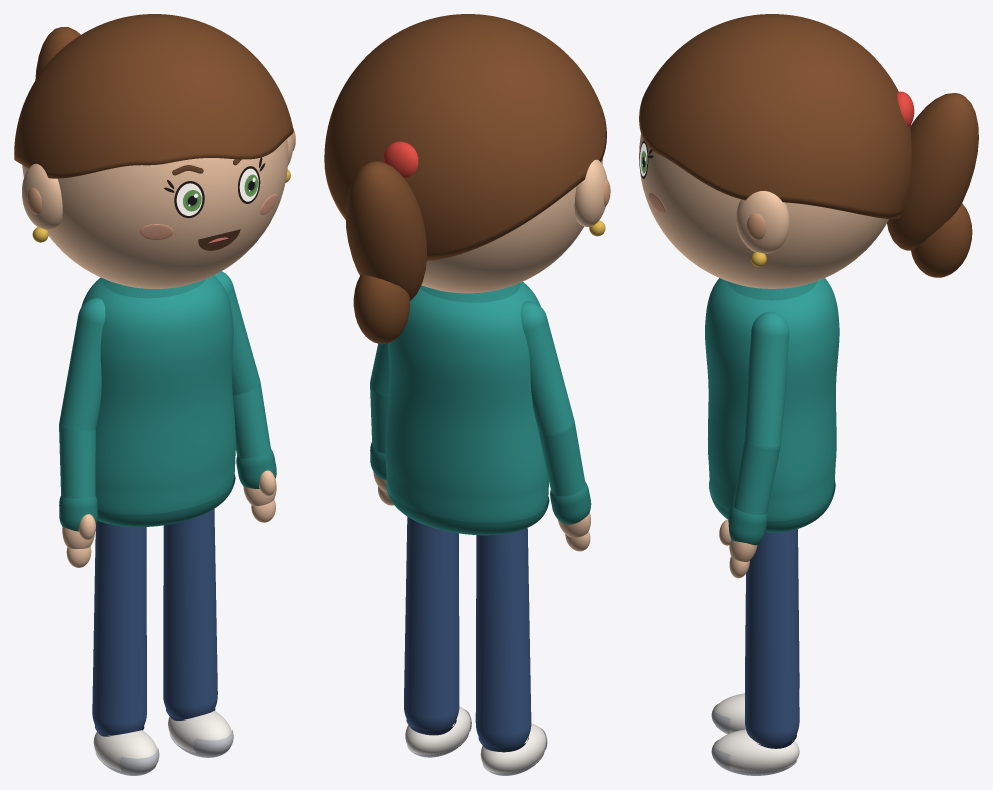
The model's file is mama.glb.
The picture shows the model from 3 angles, left to right: view 1: azimuth 30°, elevation 25°; view 2: azimuth 150°, elevation 25°; view 3: azimuth 270°, elevation 25°; orthographic projection.
Visible parts, largest first — view 1: mama_haar, mama_romp, mama_hoofd, mama_been_R, mama_been_L, mama_bovenarm_R, mama_onderarm_R, mama_onderarm_L, mama_bovenarm_L, mama_oor_R, mama_schoen_R, mama_romp_boord (+8 smaller); view 2: mama_haar, mama_romp, mama_been_R, mama_been_L, mama_staart, mama_hoofd, mama_bovenarm_R, mama_staart_punt, mama_onderarm_R, mama_romp_boord, mama_schoen_R, mama_oor_R (+6 smaller); view 3: mama_haar, mama_romp, mama_hoofd, mama_been_L, mama_staart, mama_bovenarm_L, mama_staart_punt, mama_onderarm_L, mama_oor_L, mama_schoen_L, mama_manchet_L, mama_romp_halsboord (+2 smaller).
Part boxes in pixels (x1=…): mama_haar: x1=14, y1=14, x2=293, y2=178; mama_romp: x1=81, y1=275, x2=235, y2=514; mama_hoofd: x1=22, y1=139, x2=288, y2=288; mama_been_R: x1=92, y1=520, x2=146, y2=735; mama_been_L: x1=163, y1=509, x2=217, y2=719; mama_bovenarm_R: x1=59, y1=298, x2=105, y2=431; mama_onderarm_R: x1=59, y1=424, x2=95, y2=498; mama_onderarm_L: x1=233, y1=383, x2=270, y2=458; mama_bovenarm_L: x1=214, y1=271, x2=259, y2=395; mama_oor_R: x1=22, y1=163, x2=62, y2=230; mama_schoen_R: x1=93, y1=730, x2=157, y2=771; mama_romp_boord: x1=97, y1=474, x2=235, y2=527; mama_haar: x1=324, y1=14, x2=606, y2=260; mama_romp: x1=385, y1=281, x2=548, y2=522; mama_been_R: x1=475, y1=528, x2=531, y2=748; mama_been_L: x1=404, y1=516, x2=459, y2=731; mama_staart: x1=345, y1=161, x2=426, y2=300; mama_hoofd: x1=421, y1=159, x2=602, y2=293; mama_bovenarm_R: x1=520, y1=301, x2=574, y2=437; mama_staart_punt: x1=353, y1=275, x2=409, y2=344; mama_onderarm_R: x1=539, y1=423, x2=585, y2=496; mama_romp_boord: x1=386, y1=481, x2=549, y2=535; mama_schoen_R: x1=480, y1=723, x2=546, y2=773; mama_oor_R: x1=574, y1=159, x2=607, y2=226; mama_haar: x1=639, y1=14, x2=911, y2=219; mama_romp: x1=705, y1=278, x2=839, y2=521; mama_hoofd: x1=639, y1=134, x2=888, y2=288; mama_been_L: x1=745, y1=529, x2=799, y2=745; mama_staart: x1=887, y1=93, x2=978, y2=250; mama_bovenarm_L: x1=744, y1=311, x2=789, y2=450; mama_staart_punt: x1=911, y1=203, x2=972, y2=277; mama_onderarm_L: x1=733, y1=440, x2=779, y2=514; mama_oor_L: x1=736, y1=191, x2=789, y2=253; mama_schoen_L: x1=714, y1=729, x2=799, y2=771; mama_manchet_L: x1=728, y1=505, x2=767, y2=545; mama_romp_halsboord: x1=727, y1=281, x2=817, y2=300.
Size of the model in its own units: 0.668 by 1.75 by 0.7425.
